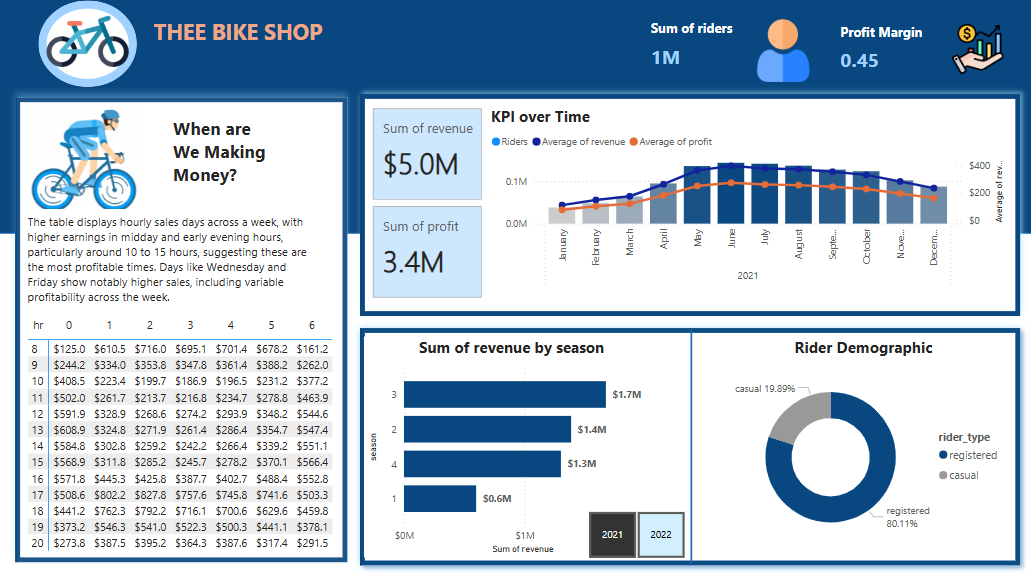

This screenshot's page, from the dashboard's own definition file:
{"tool":"powerbi","page":{"name":"Page 1","canvas":[1280,720],"ordinal":0},"visuals":[{"type":"shape","box":[0,0,1279.7,293.2],"z":0},{"type":"cardVisual","fields":{"Data":["Min(Query1.riders)"]},"box":[0,103.4,452.5,616.9],"z":1000},{"type":"cardVisual","fields":{"Data":["Min(Query1.riders)"]},"box":[430.5,103.4,849.2,308.5],"z":2000},{"type":"cardVisual","fields":{"Data":["Min(Query1.riders)"]},"box":[32.2,127.1,149.2,142.4],"z":3000},{"type":"pivotTable","fields":{"Rows":["Query1.hr"],"Values":["Avg(Query1.revenue)"],"Columns":["Query1.weekday"]},"box":[32.2,391.5,386.4,301.7],"z":4000},{"type":"textbox","box":[211.9,142.4,183.1,96.6],"z":5000},{"type":"textbox","box":[32.2,262.7,369.5,130.5],"z":6000},{"type":"lineClusteredColumnComboChart","title":"KPI over Time","fields":{"Category":["Query1.dteday.Variation.Date Hierarchy.Year","Query1.dteday.Variation.Date Hierarchy.Month","Query1.dteday.Variation.Date Hierarchy.Day"],"Y":["Sum(Query1.riders)"],"Y2":["Avg(Query1.revenue)","Avg(Query1.profit)"]},"box":[603.4,133.9,644.1,245.8],"z":7000},{"type":"cardVisual","fields":{"Data":["Min(Query1.riders)"]},"box":[430.5,393.2,849.2,327.1],"z":8000},{"type":"clusteredBarChart","fields":{"Category":["Query1.season"],"Y":["Sum(Query1.revenue)"]},"box":[452.5,420.3,364.4,272.9],"z":9000},{"type":"donutChart","title":"Rider Demographic","fields":{"Category":["Query1.rider_type"],"Y":["Sum(Query1.riders)"]},"box":[888.1,420.3,359.3,272.9],"z":10000},{"type":"shape","box":[840.7,411.9,30.5,289.8],"z":11000},{"type":"cardVisual","title":"KPI over Time","fields":{"Data":["Sum(Query1.revenue)","Sum(Query1.profit)"]},"box":[457.6,133.9,145.8,245.8],"z":12000},{"type":"cardVisual","fields":{"Data":["Sum(Query1.riders)","Query1.Profit Margin"]},"box":[788.1,6.8,471.2,120.3],"z":14000},{"type":"shape","box":[50.2,6.5,121.3,106.8],"z":15000},{"type":"image","box":[50.2,0,121.3,111.6],"z":16000},{"type":"textbox","box":[186.4,20.3,300,61],"z":17000},{"type":"slicer","fields":{"Values":["Query1.Year"]},"box":[703.4,630.5,167.8,71.2],"z":18000}]}

Visuals, with their boxes in screenshot pixels (x1, y1, x2, y2), scaled from the page's 1280x720 canvas onto the 1031x573 screenshot:
shape: [left=0, top=0, right=1030, bottom=233]
cardVisual - Min(Query1.riders): [left=0, top=82, right=364, bottom=572]
cardVisual - Min(Query1.riders): [left=347, top=82, right=1030, bottom=328]
cardVisual - Min(Query1.riders): [left=26, top=101, right=146, bottom=214]
pivotTable - Query1.hr x Avg(Query1.revenue): [left=26, top=312, right=337, bottom=552]
textbox: [left=171, top=113, right=318, bottom=190]
textbox: [left=26, top=209, right=324, bottom=313]
"KPI over Time" lineClusteredColumnComboChart: [left=486, top=107, right=1005, bottom=302]
cardVisual - Min(Query1.riders): [left=347, top=313, right=1030, bottom=572]
clusteredBarChart - Query1.season x Sum(Query1.revenue): [left=364, top=334, right=658, bottom=552]
"Rider Demographic" donutChart: [left=715, top=334, right=1005, bottom=552]
shape: [left=677, top=328, right=702, bottom=558]
"KPI over Time" cardVisual: [left=369, top=107, right=486, bottom=302]
cardVisual - Sum(Query1.riders) x Query1.Profit Margin: [left=635, top=5, right=1014, bottom=101]
shape: [left=40, top=5, right=138, bottom=90]
image: [left=40, top=0, right=138, bottom=89]
textbox: [left=150, top=16, right=392, bottom=65]
slicer - Query1.Year: [left=567, top=502, right=702, bottom=558]
